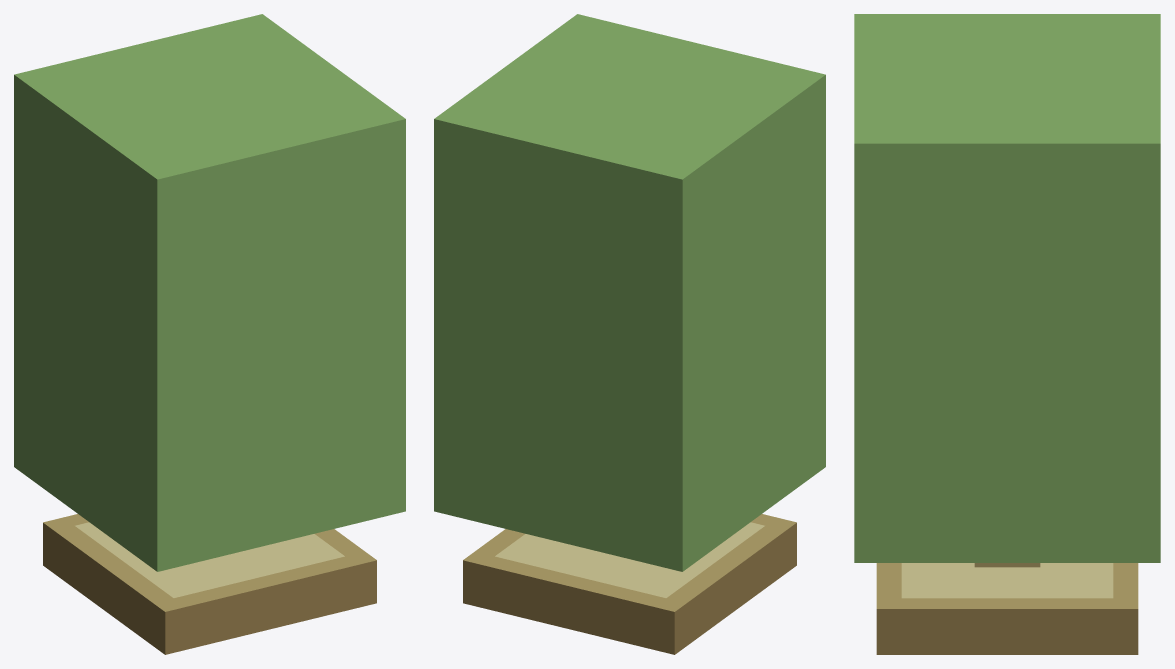
File: vegetation_007.glb
3 renders of one model, left to right at view 1: azimuth 30°, elevation 25°; view 2: azimuth 150°, elevation 25°; view 3: azimuth 270°, elevation 25°, orthographic. The views are drawn at different scales.
Visible parts, largest first — view 1: vegetation_007; view 2: vegetation_007; view 3: vegetation_007.
Part boxes in pixels (x1,y1,x2,y2): vegetation_007: (14,14,405,654); vegetation_007: (434,14,825,654); vegetation_007: (854,14,1160,654).
Bounding box in the file's own units: 1.24 × 2.32 × 1.24.
1 material, 1 textured.
